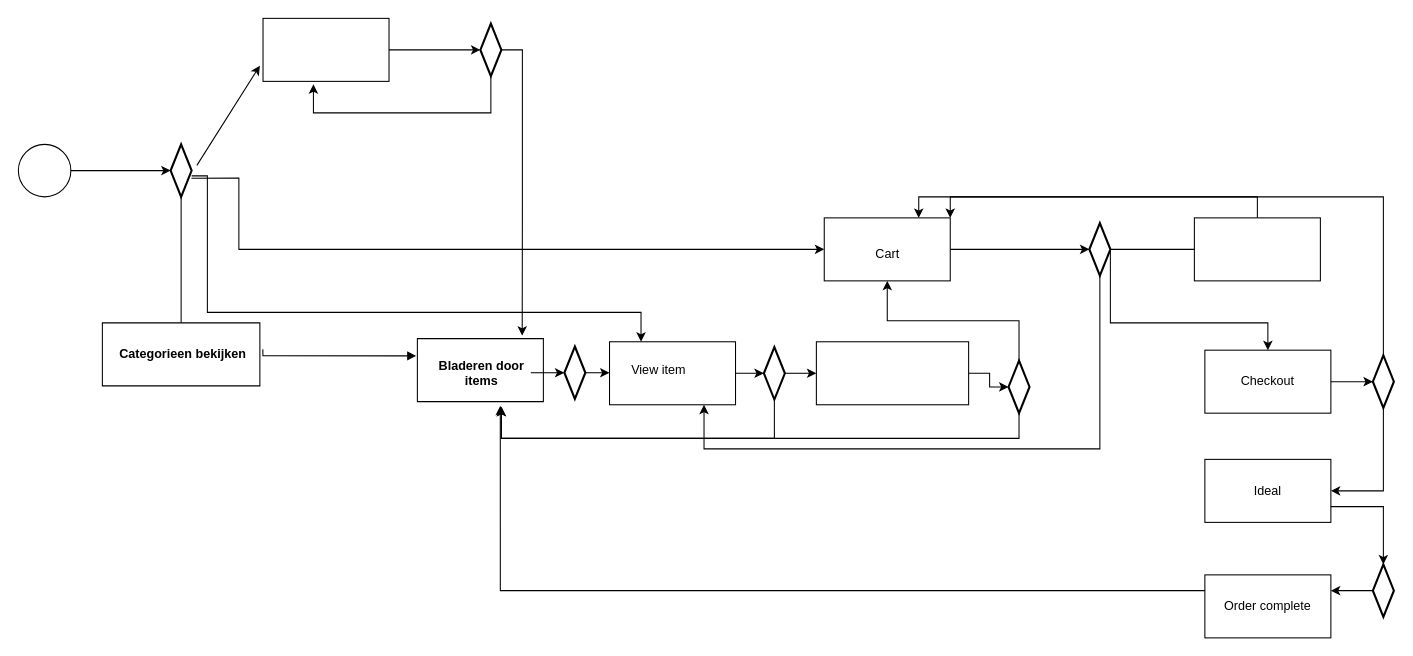
Image size: 1413x656. Some labels were removed from this diagram. The box of each missing label's shape, as (x1, y1, x2, y2) in pixels:
Toevoegen aan winkelmand: (815, 341, 969, 405)
Update winkelmand: (1193, 217, 1320, 281)
Zoeken: (262, 17, 389, 81)
